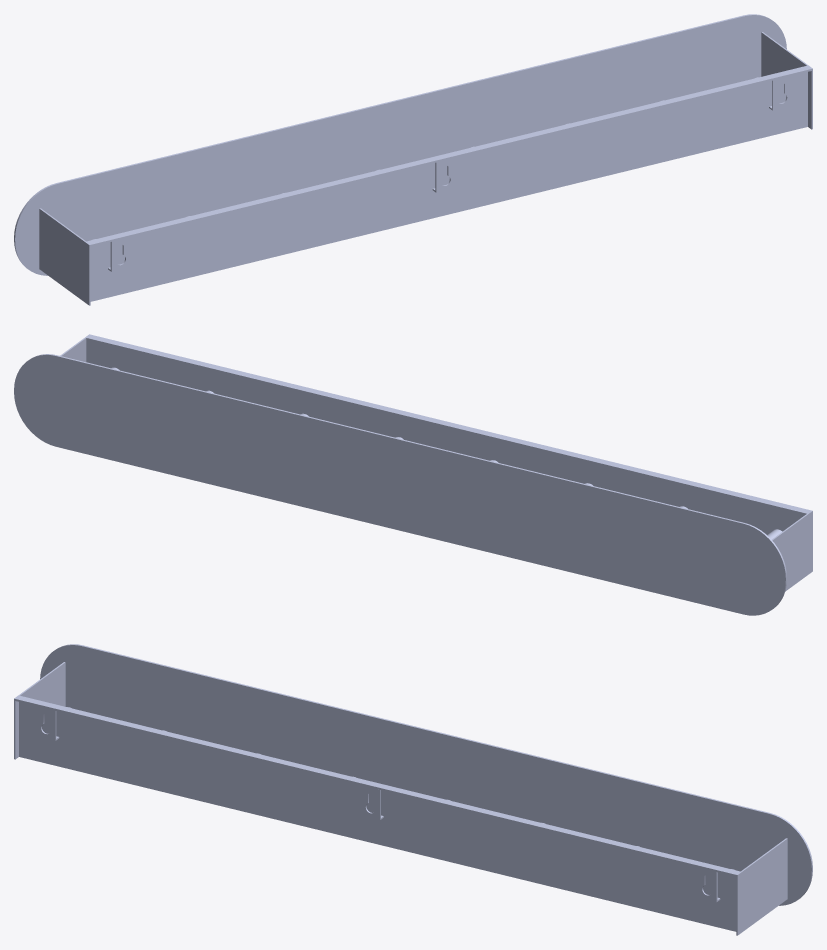
The model's file is round-hook.53fafb27d6.glb.
3 views of the same model, one above another, from view 1: azimuth 30°, elevation 25°; view 2: azimuth 150°, elevation 25°; view 3: azimuth 330°, elevation 25° (orthographic).
Visible parts, largest first — view 1: NAUO1; view 2: NAUO1; view 3: NAUO1.
Part boxes in pixels (x1=…): NAUO1: x1=14, y1=14, x2=812, y2=305; NAUO1: x1=14, y1=334, x2=812, y2=615; NAUO1: x1=14, y1=644, x2=812, y2=935.
Bounding box in the file's own units: 0.8 × 0.0899 × 0.092.
